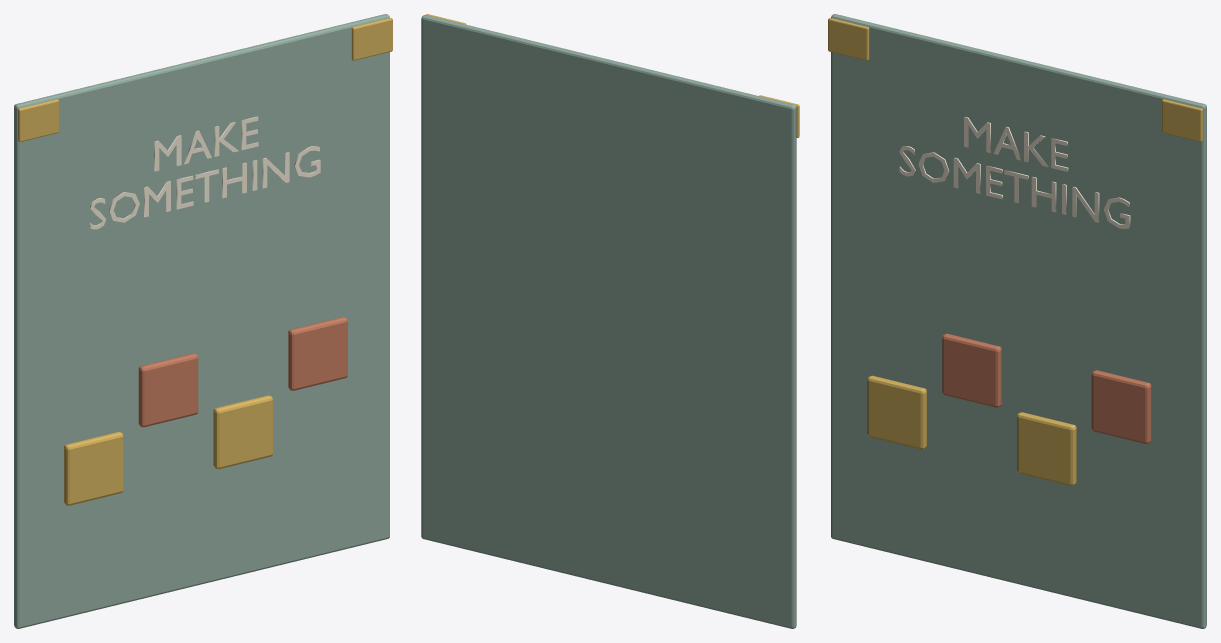
File: poster_make.glb
3 views of the same model, side by side, from view 1: azimuth 30°, elevation 25°; view 2: azimuth 150°, elevation 25°; view 3: azimuth 330°, elevation 25° (orthographic).
Parts seen in each view (by area): view 1: poster_make_Mesh; view 2: poster_make_Mesh; view 3: poster_make_Mesh.
Boxes of the visible parts, <box> form: poster_make_Mesh: <box>14,14,392,628</box>; poster_make_Mesh: <box>421,14,799,628</box>; poster_make_Mesh: <box>828,14,1206,628</box>.
Bounding box in the file's own units: 0.65 × 0.87 × 0.033.
